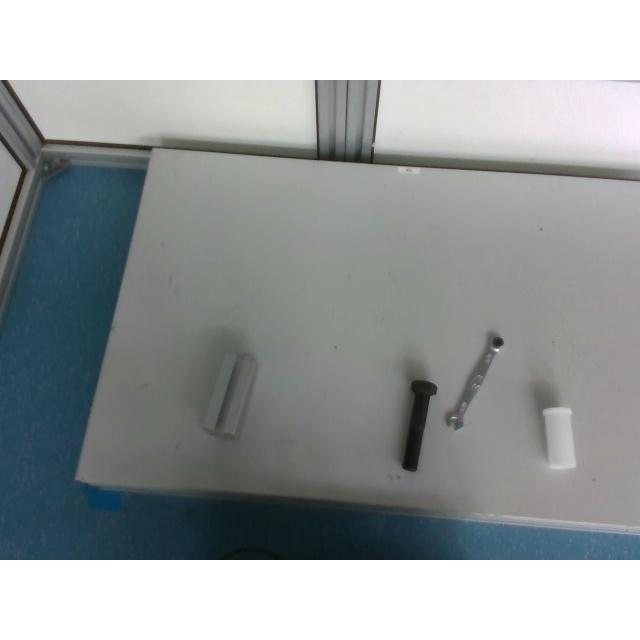M20_100: (400, 379, 438, 471)
S40_40_G: (202, 353, 258, 439)
Spacer: (542, 406, 576, 466)
Wrench: (445, 338, 503, 430)
